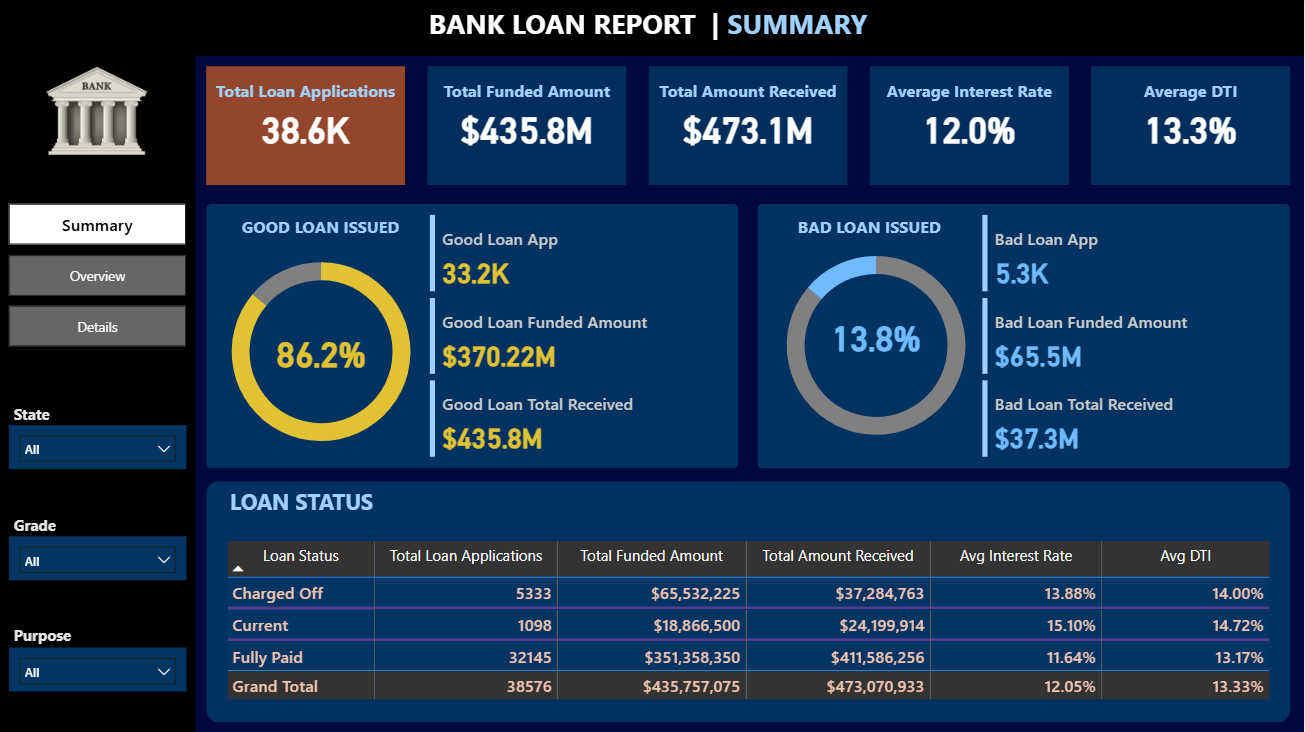

What the dashboard file says about the page in this screenshot:
{"tool":"powerbi","page":{"name":"Summary","canvas":[1280,720],"ordinal":0},"visuals":[{"type":"shape","box":[202.5,65,195.1,116.6],"z":0,"group":"g1"},{"type":"shape","box":[419.6,65,195.1,116.6],"z":0,"group":"g2"},{"type":"shape","box":[636.8,65,195.1,116.6],"z":0,"group":"g3"},{"type":"shape","box":[854,65,195.1,116.6],"z":0,"group":"g4"},{"type":"shape","box":[1071.2,65,195.1,116.6],"z":0,"group":"g5"},{"type":"shape","box":[202.5,200,522,260],"z":0},{"type":"shape","box":[0,0,1280.3,55],"z":1000},{"type":"card","fields":{"Values":["bank_loans bank_loan_data.Total Loan Applications"]},"box":[202.5,96.9,195.1,56.4],"z":1000,"group":"g1"},{"type":"card","fields":{"Values":["bank_loans bank_loan_data.Total Funded Amount"]},"box":[419.6,96.9,195.1,56.4],"z":1000,"group":"g2"},{"type":"card","fields":{"Values":["bank_loans bank_loan_data.Total Amount Received"]},"box":[636.8,96.9,195.1,56.4],"z":1000,"group":"g3"},{"type":"card","fields":{"Values":["bank_loans bank_loan_data.Avg Interest Rate"]},"box":[854,96.9,195.1,56.4],"z":1000,"group":"g4"},{"type":"card","fields":{"Values":["bank_loans bank_loan_data.Avg DTI"]},"box":[1071.2,96.9,195.1,56.4],"z":1000,"group":"g5"},{"type":"shape","box":[0,55.2,192,665],"z":2000},{"type":"textbox","box":[202.5,72.4,195.1,35.6],"z":2000,"group":"g1"},{"type":"textbox","box":[419.6,72.4,195.1,35.6],"z":2000,"group":"g2"},{"type":"textbox","box":[636.8,72.4,195.1,35.6],"z":2000,"group":"g3"},{"type":"textbox","box":[854,72.4,195.1,35.6],"z":2000,"group":"g4"},{"type":"textbox","box":[1071.2,72.4,195.1,35.6],"z":2000,"group":"g5"},{"type":"textbox","box":[217.2,206.1,195.1,35.6],"z":3000},{"type":"card","fields":{"Values":["bank_loans bank_loan_data.Good Loan %"]},"box":[245.4,317.8,139.9,56.4],"z":4000},{"type":"donutChart","fields":{"Category":["bank_loans bank_loan_data.Good vs Bad Loan"],"Y":["bank_loans bank_loan_data.Total Loan Applications"]},"box":[190.2,230.7,250.3,229.4],"z":5000},{"type":"textbox","box":[416,0,449.1,55.2],"z":6000},{"type":"group","id":"g1","title":"Group 1","box":[202.5,65,195.1,116.6],"z":7000},{"type":"group","id":"g2","title":"Group 1","box":[419.6,65,195.1,116.6],"z":8000},{"type":"group","id":"g3","title":"Group 1","box":[636.8,65,195.1,116.6],"z":9000},{"type":"group","id":"g4","title":"Group 1","box":[854,65,195.1,116.6],"z":10000},{"type":"group","id":"g5","title":"Group 1","box":[1071.2,65,195.1,116.6],"z":11000},{"type":"shape","box":[743.6,200,522.7,260.1],"z":12000},{"type":"cardVisual","fields":{"Data":["bank_loans bank_loan_data.Good Loan App","bank_loans bank_loan_data.Good Loan Funded Amount","bank_loans bank_loan_data.Good Loan Total Received"]},"box":[417.2,206.1,306.8,247.9],"z":13000},{"type":"textbox","box":[755.8,206.1,195.1,35.6],"z":14000},{"type":"donutChart","fields":{"Category":["bank_loans bank_loan_data.Good vs Bad Loan"],"Y":["bank_loans bank_loan_data.Total Loan Applications"]},"box":[735,224.5,250.3,229.4],"z":15000},{"type":"card","fields":{"Values":["bank_loans bank_loan_data.Bad Loan %"]},"box":[790.2,301.8,139.9,56.4],"z":16000},{"type":"cardVisual","fields":{"Data":["bank_loans bank_loan_data.Bad Loan App","bank_loans bank_loan_data.Bad Loan Funded Amount","bank_loans bank_loan_data.Bad Loan Total Received"]},"box":[959.5,206.1,306.8,247.9],"z":17000},{"type":"shape","box":[202.5,472.4,1063.8,247.9],"z":18000},{"type":"tableEx","fields":{"Values":["bank_loans bank_loan_data.loan_status","bank_loans bank_loan_data.Total Loan Applications","bank_loans bank_loan_data.Total Funded Amount","bank_loans bank_loan_data.Total Amount Received","bank_loans bank_loan_data.Avg Interest Rate","bank_loans bank_loan_data.Avg DTI"]},"box":[217.2,526.4,1049.1,174.2],"z":19000},{"type":"textbox","box":[220.9,472.4,278.5,54],"z":20000},{"type":"slicer","fields":{"Values":["bank_loans bank_loan_data.address_state"]},"box":[8.6,417.2,174.2,42.9],"z":21000},{"type":"textbox","box":[8.6,391.4,174.2,35.6],"z":22000},{"type":"slicer","fields":{"Values":["bank_loans bank_loan_data.grade"]},"box":[8.6,526.4,174.2,42.9],"z":24000},{"type":"slicer","fields":{"Values":["bank_loans bank_loan_data.purpose"]},"box":[8.6,635.6,174.2,42.9],"z":25000},{"type":"textbox","box":[8.6,500.6,174.2,35.6],"z":26000},{"type":"textbox","box":[8.6,608.6,174.2,35.6],"z":27000},{"type":"image","box":[40.5,55.2,109.2,108],"z":27001},{"type":"pageNavigator","box":[8.6,200,174.2,141.1],"z":27002}]}

Visuals, with their boxes in screenshot pixels (x1, y1, x2, y2), scaled from the page's 1280x720 canvas onto the 1305x732 screenshot:
shape: (206, 66, 405, 185)
shape: (428, 66, 627, 185)
shape: (649, 66, 848, 185)
shape: (871, 66, 1070, 185)
shape: (1092, 66, 1291, 185)
shape: (206, 203, 739, 468)
shape: (0, 0, 1304, 56)
card - bank_loans bank_loan_data.Total Loan Applications: (206, 99, 405, 156)
card - bank_loans bank_loan_data.Total Funded Amount: (428, 99, 627, 156)
card - bank_loans bank_loan_data.Total Amount Received: (649, 99, 848, 156)
card - bank_loans bank_loan_data.Avg Interest Rate: (871, 99, 1070, 156)
card - bank_loans bank_loan_data.Avg DTI: (1092, 99, 1291, 156)
shape: (0, 56, 196, 731)
textbox: (206, 74, 405, 110)
textbox: (428, 74, 627, 110)
textbox: (649, 74, 848, 110)
textbox: (871, 74, 1070, 110)
textbox: (1092, 74, 1291, 110)
textbox: (221, 210, 420, 246)
card - bank_loans bank_loan_data.Good Loan %: (250, 323, 393, 380)
donutChart - bank_loans bank_loan_data.Good vs Bad Loan x bank_loans bank_loan_data.Total Loan Applications: (194, 235, 449, 468)
textbox: (424, 0, 882, 56)
"Group 1" group: (206, 66, 405, 185)
"Group 1" group: (428, 66, 627, 185)
"Group 1" group: (649, 66, 848, 185)
"Group 1" group: (871, 66, 1070, 185)
"Group 1" group: (1092, 66, 1291, 185)
shape: (758, 203, 1291, 468)
cardVisual - bank_loans bank_loan_data.Good Loan App x bank_loans bank_loan_data.Good Loan Funded Amount: (425, 210, 738, 462)
textbox: (771, 210, 969, 246)
donutChart - bank_loans bank_loan_data.Good vs Bad Loan x bank_loans bank_loan_data.Total Loan Applications: (749, 228, 1005, 461)
card - bank_loans bank_loan_data.Bad Loan %: (806, 307, 948, 364)
cardVisual - bank_loans bank_loan_data.Bad Loan App x bank_loans bank_loan_data.Bad Loan Funded Amount: (978, 210, 1291, 462)
shape: (206, 480, 1291, 731)
tableEx - bank_loans bank_loan_data.loan_status x bank_loans bank_loan_data.Total Loan Applications: (221, 535, 1291, 712)
textbox: (225, 480, 509, 535)
slicer - bank_loans bank_loan_data.address_state: (9, 424, 186, 468)
textbox: (9, 398, 186, 434)
slicer - bank_loans bank_loan_data.grade: (9, 535, 186, 579)
slicer - bank_loans bank_loan_data.purpose: (9, 646, 186, 690)
textbox: (9, 509, 186, 545)
textbox: (9, 619, 186, 655)
image: (41, 56, 153, 166)
pageNavigator: (9, 203, 186, 347)
